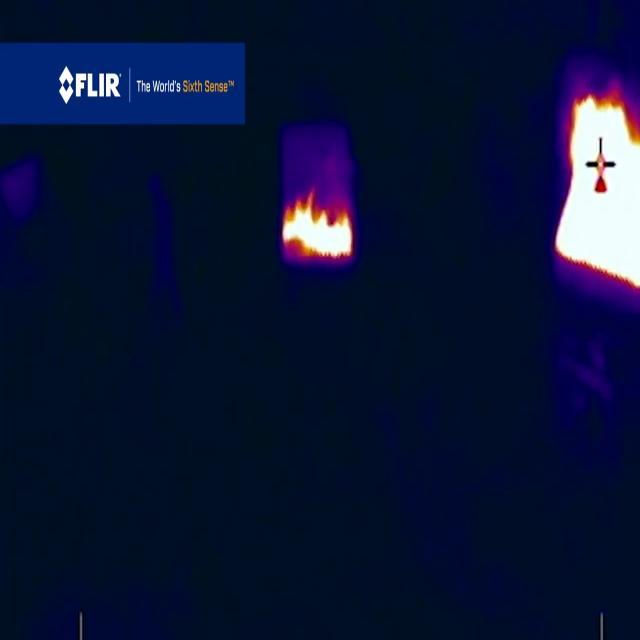fire: (556, 92, 640, 290), (283, 183, 353, 265)
